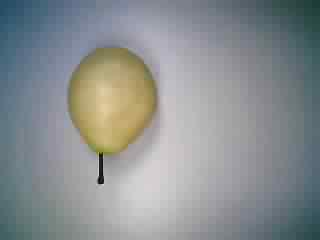pear: (53, 40, 170, 189)
